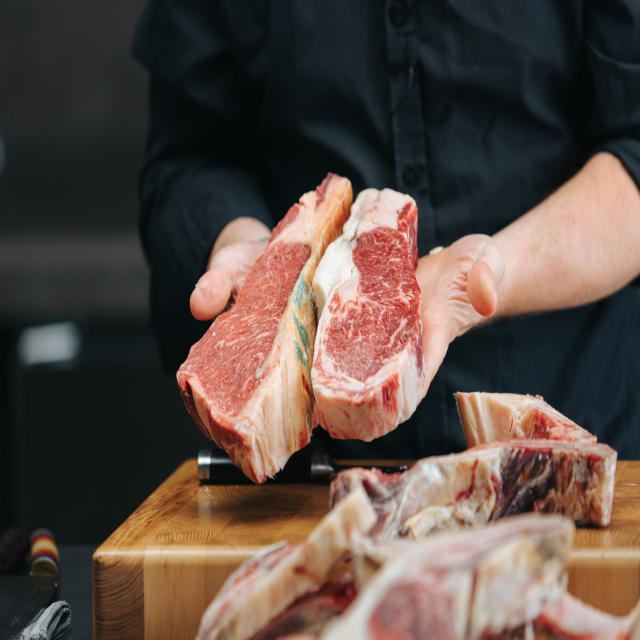carne de res: (167, 150, 433, 495)
